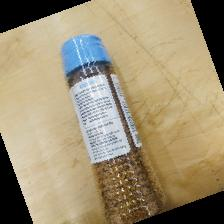TayNinh_blue: (60, 31, 165, 224)
